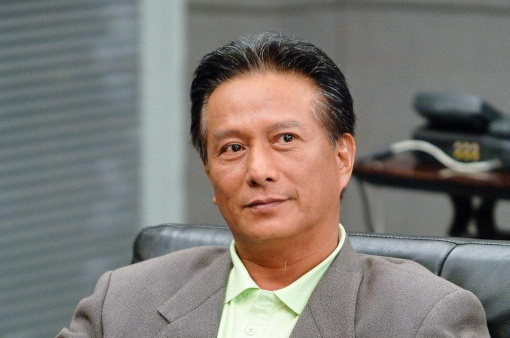male: (168, 26, 403, 291)
